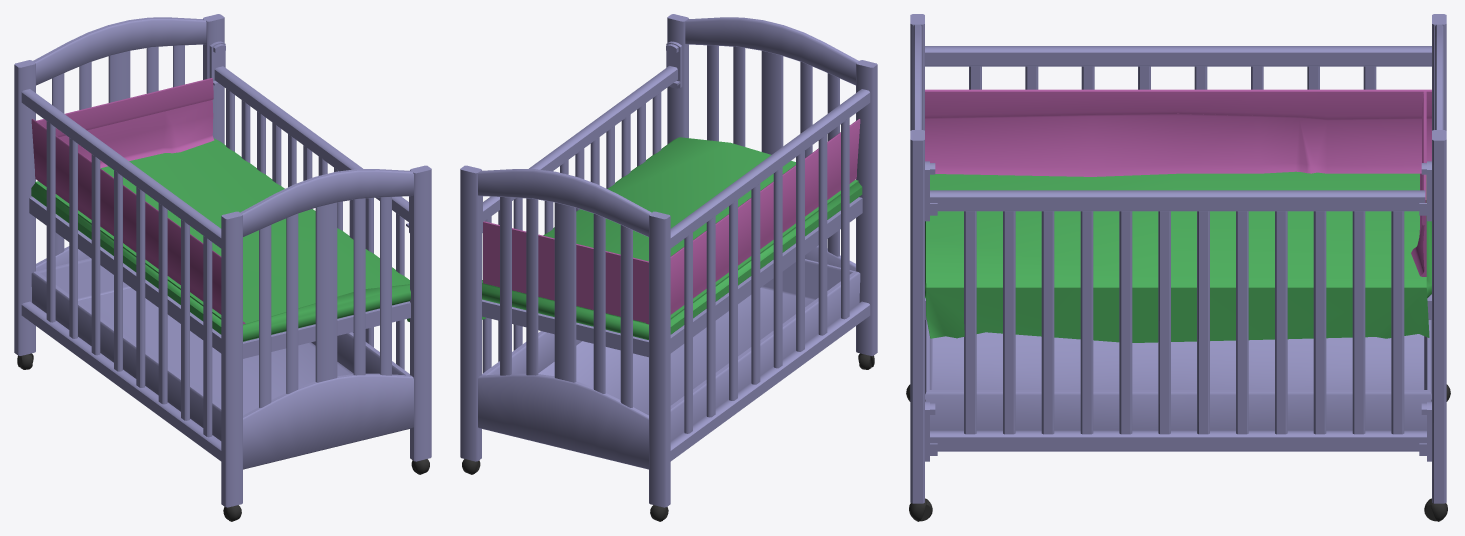
The model's file is XBX806C.FBX.
3 renders of one model, left to right at view 1: azimuth 30°, elevation 25°; view 2: azimuth 150°, elevation 25°; view 3: azimuth 270°, elevation 25°, orthographic. The views are drawn at different scales.
Visible parts, largest first — view 1: XBX806C; view 2: XBX806C; view 3: XBX806C.
Part boxes in pixels (bbox=[...]): XBX806C: bbox=[14, 14, 431, 521]; XBX806C: bbox=[460, 14, 877, 521]; XBX806C: bbox=[906, 14, 1450, 521].
Size of the model in its own units: 73.59 by 134 by 110.
